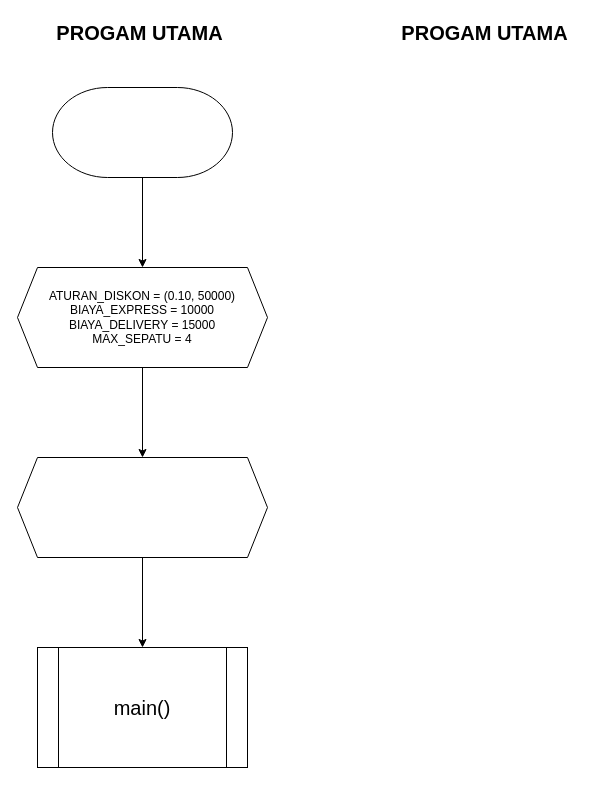
The diagram is 595 pixels wide and 785 high, and some of its shapes have lost their labels. Each missing label, with the centre of its shape:
DAFTAR_LAYANAN: (x=142, y=507)
Mulai: (x=142, y=132)
